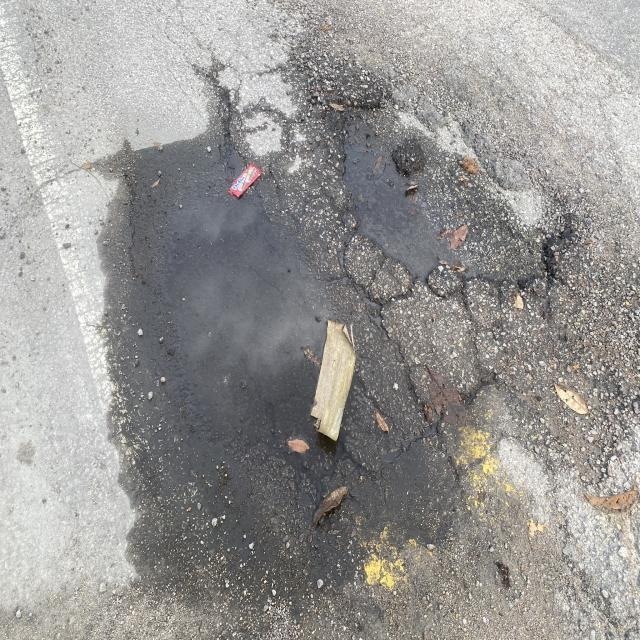Pothole: (84, 84, 367, 499), (307, 67, 625, 334)
